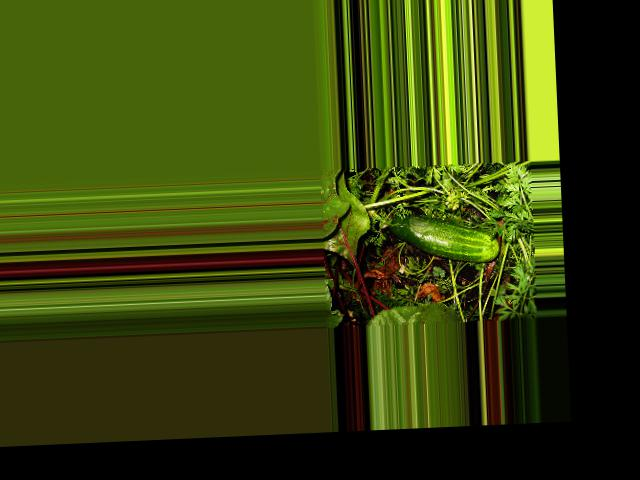cucumber: (387, 208, 498, 266)
